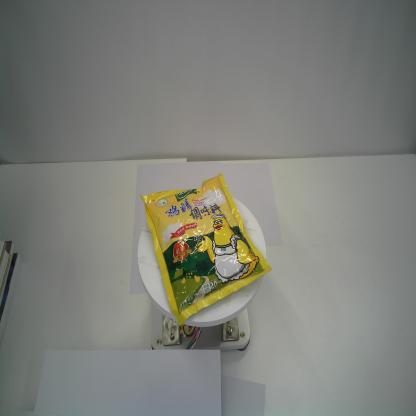Seasoner: (140, 172, 274, 328)
